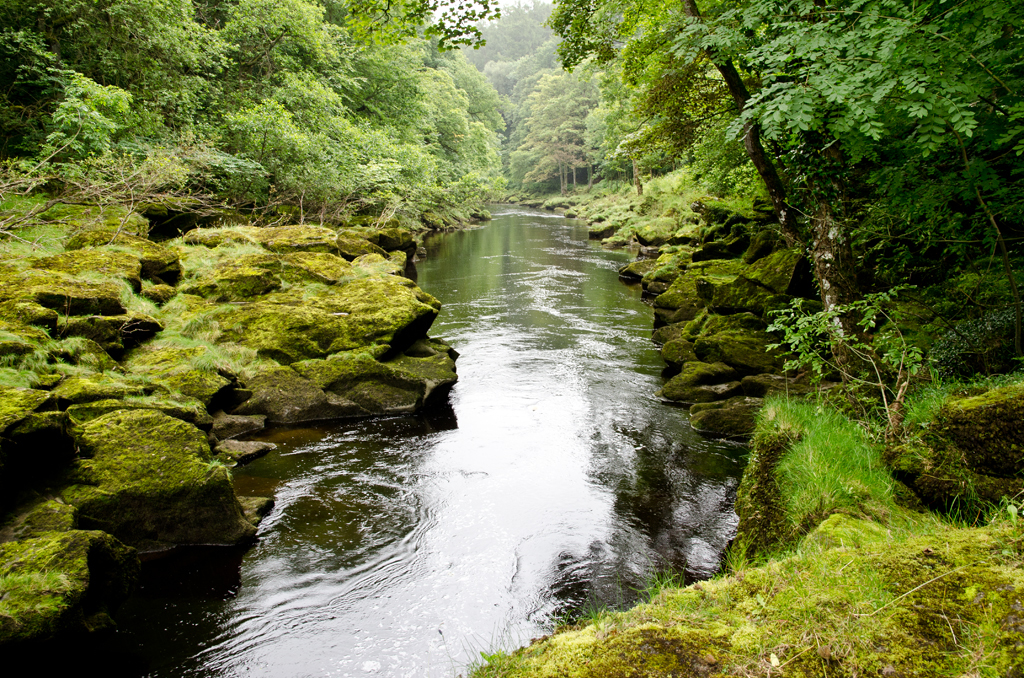Tree: (0, 0, 1024, 402)
